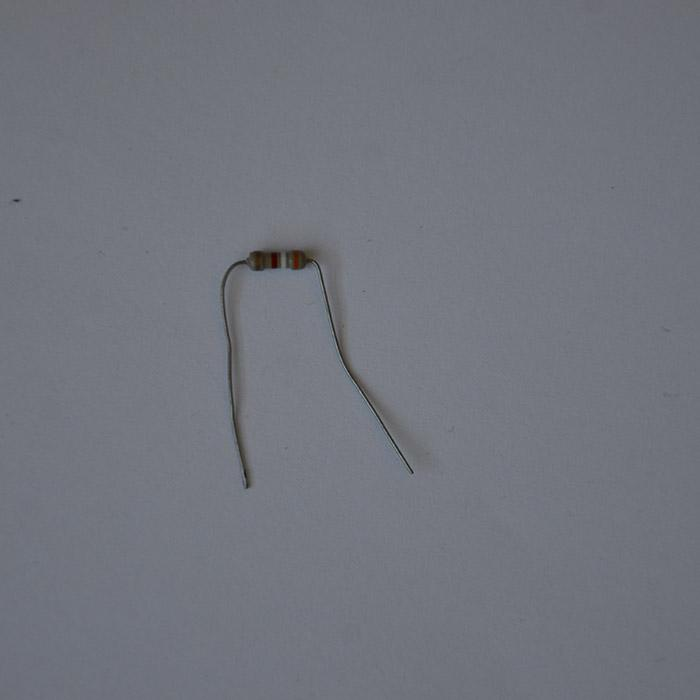resistor: (246, 249, 307, 271)
